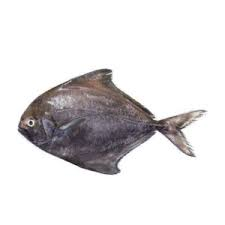Ikan Bawal: (11, 66, 210, 181)
